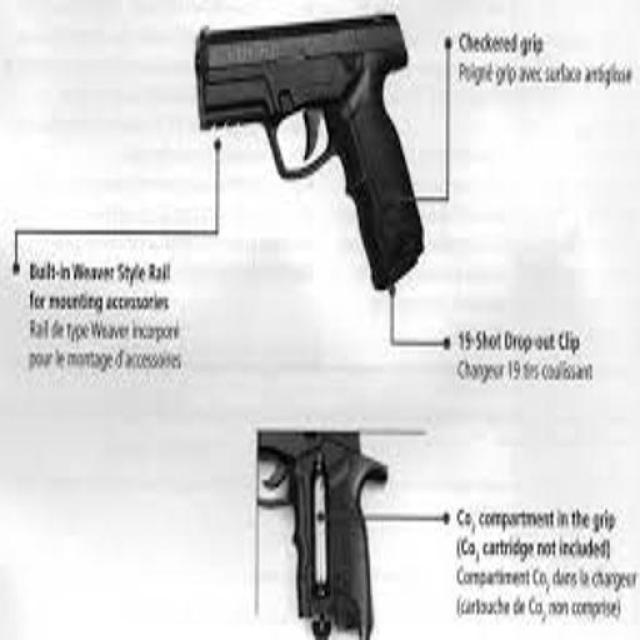pistol: (193, 2, 438, 301)
